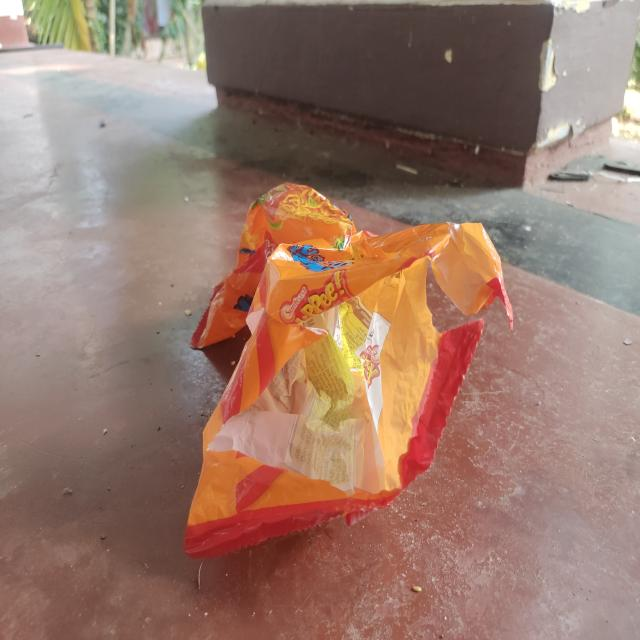plastic: (184, 181, 516, 561)
